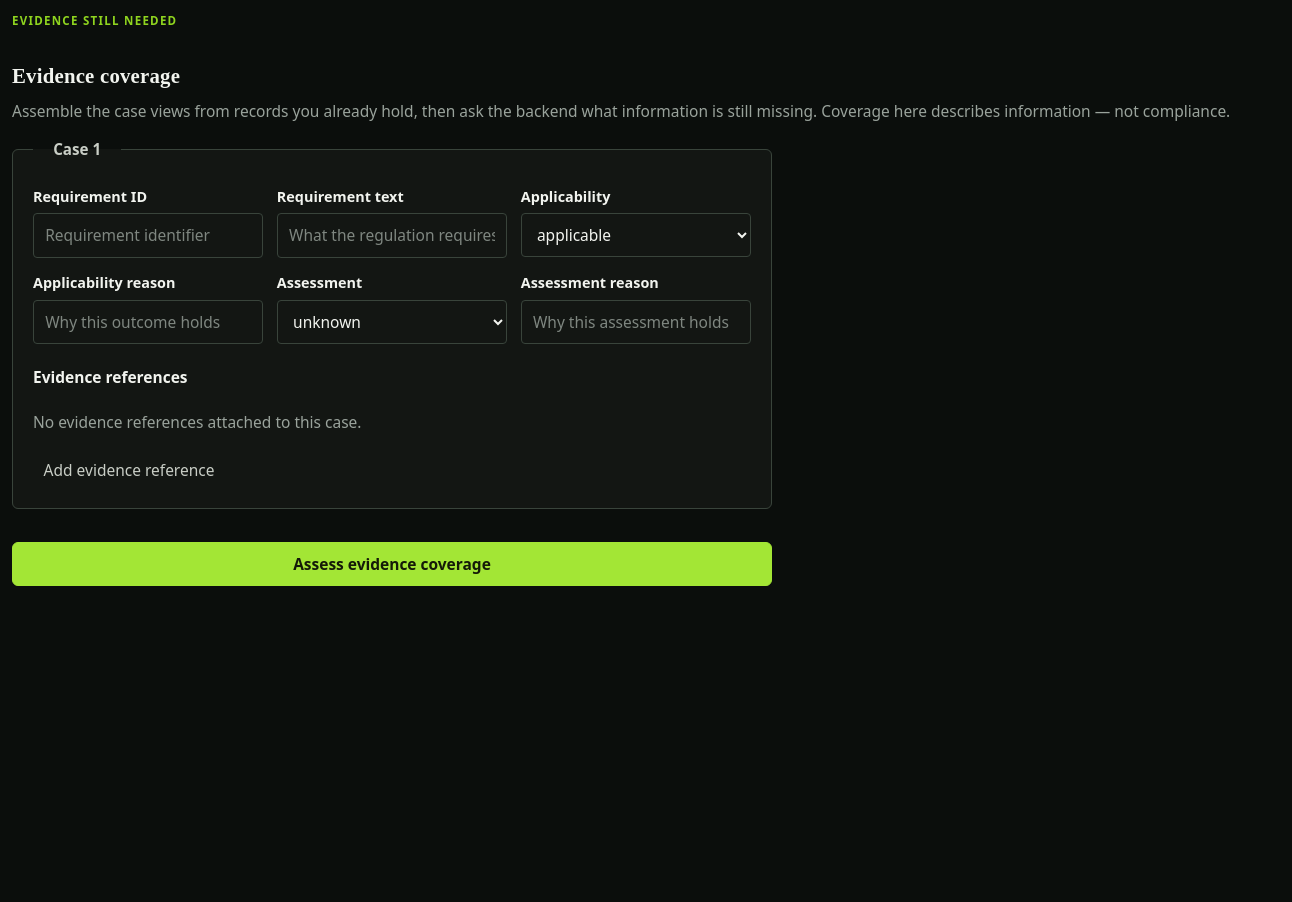
it: GapsPage › renders gaps verbatim with reasons, never as non-compliance
In the field labelled "Requirement ID": (148, 236) [33,213,263,258], type "req-1"
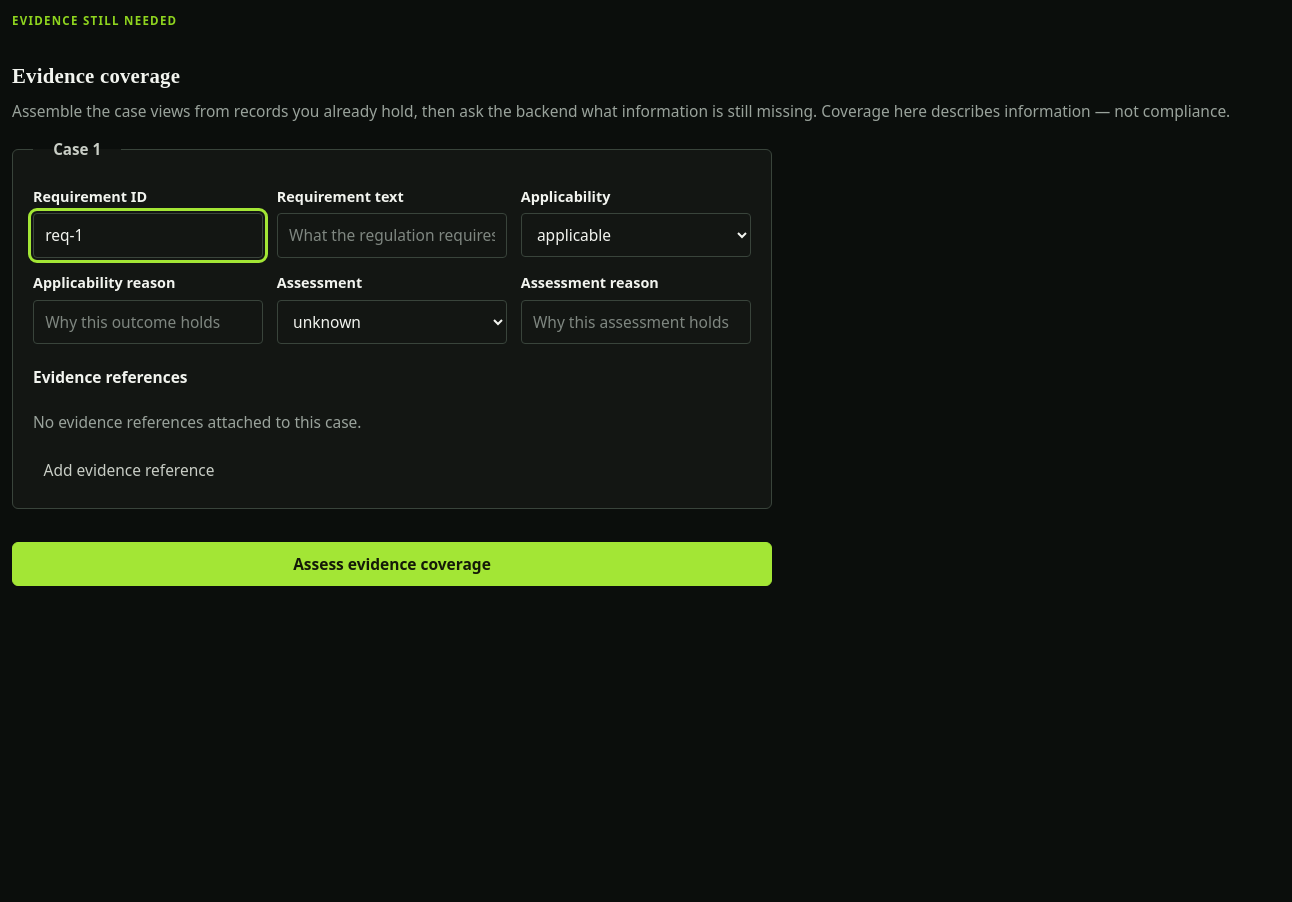
In the field labelled "Requirement text": (392, 236) [277,213,507,258], type "File form X."
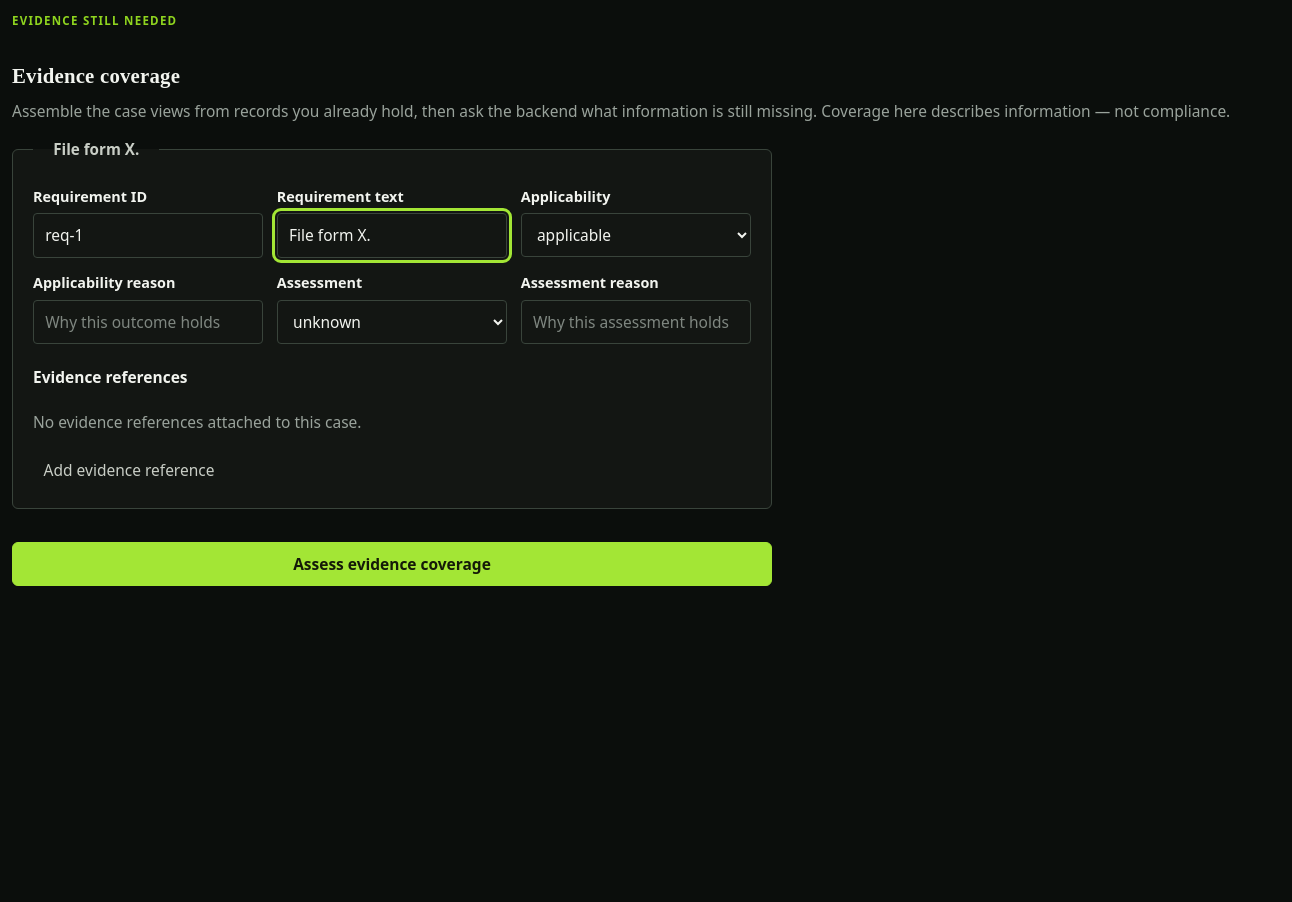
Click the button "Assess evidence coverage": click(392, 564) [12,542,772,586]
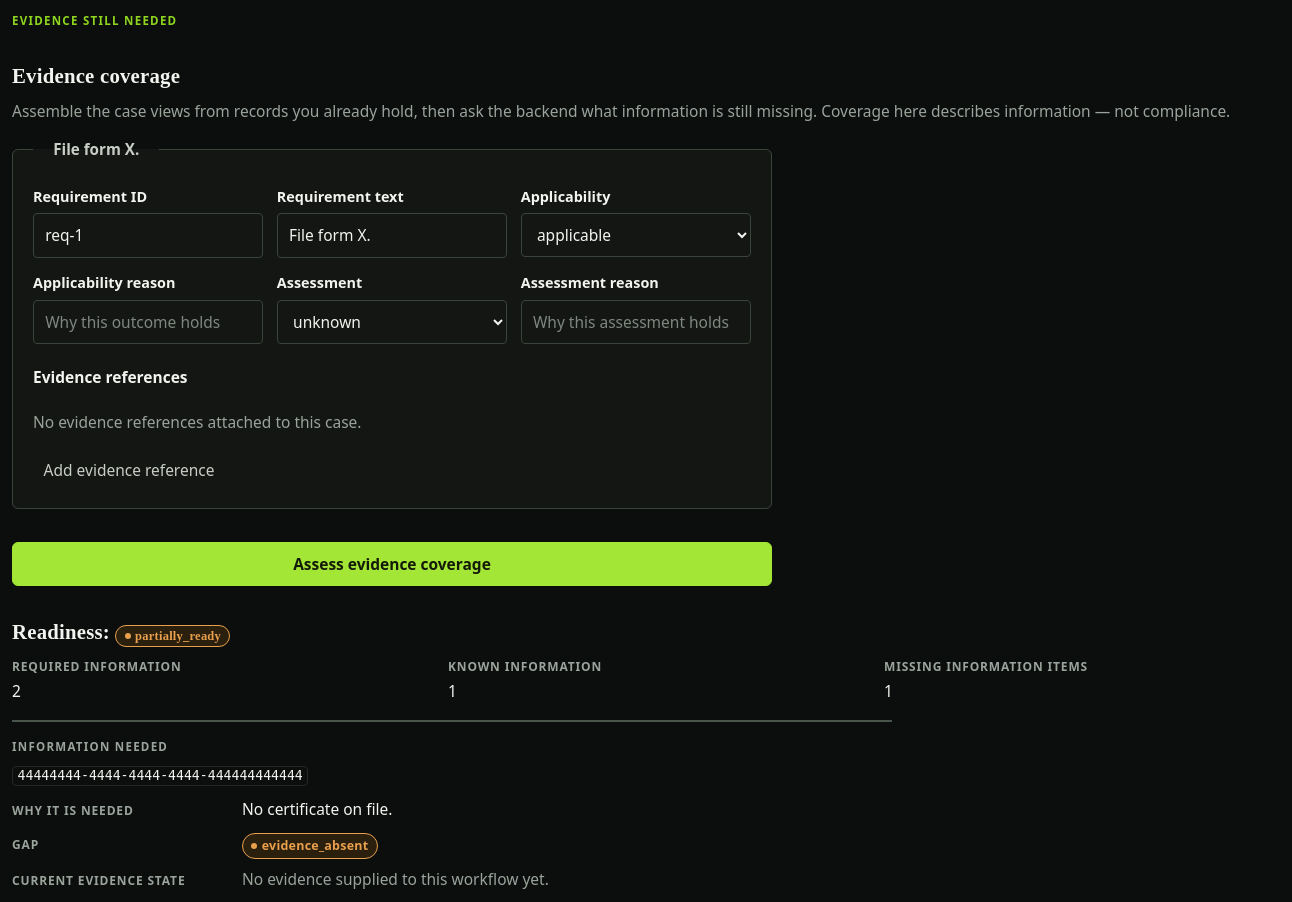
Expected: the text "evidence_absent" is shown, [242,833,378,858]
Expected: the text "No certificate on file." is shown, [242,798,392,820]
